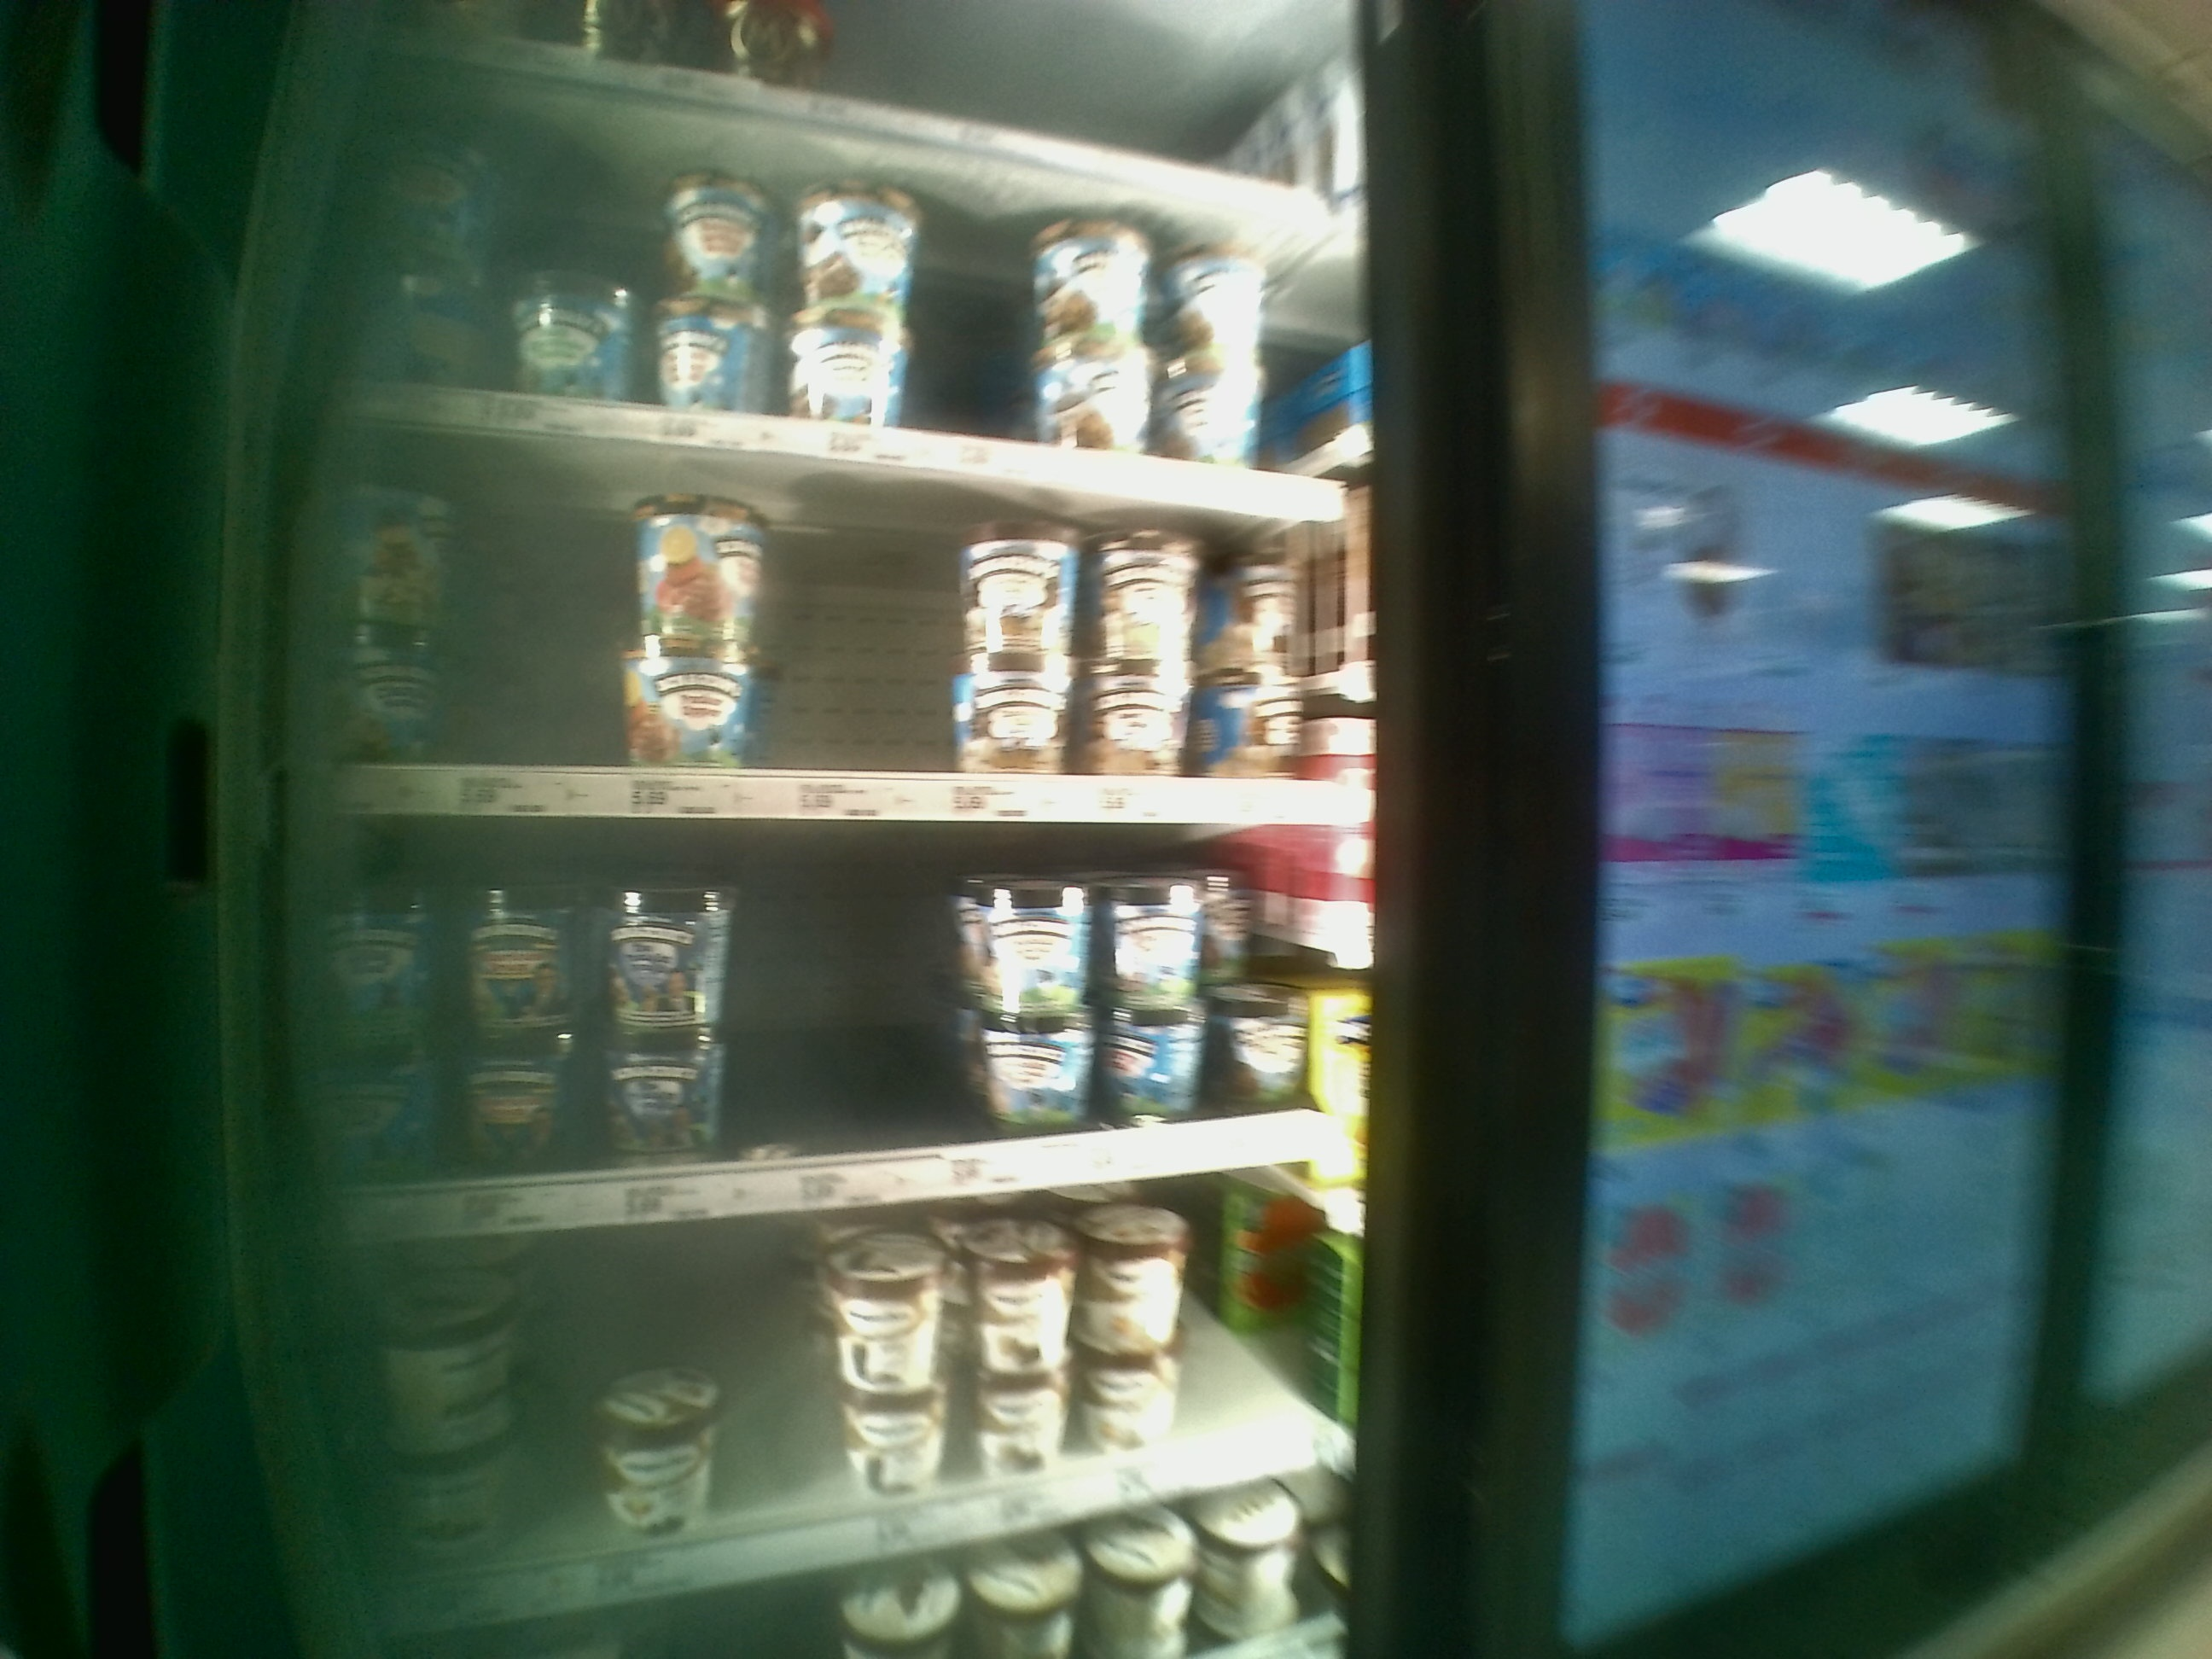shelf: (324, 814, 1372, 1244), (324, 416, 1388, 823)
